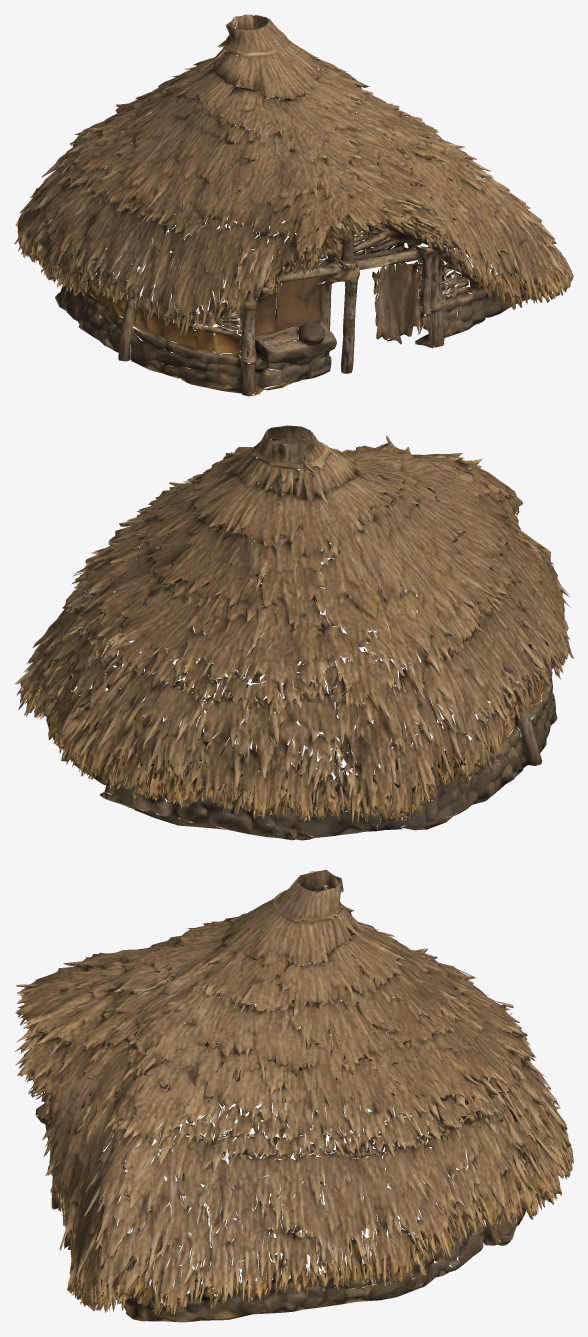
File: study_mid.glb
The picture shows the model from 3 angles, top to bottom: view 1: azimuth 30°, elevation 25°; view 2: azimuth 150°, elevation 25°; view 3: azimuth 270°, elevation 25°; orthographic projection. The views are drawn at different scales.
Parts seen in each view (by area): view 1: model; view 2: model; view 3: model.
Boxes of the visible parts, x1,y1,x2,y2 form: model: [14, 14, 573, 396]; model: [15, 425, 573, 840]; model: [14, 869, 573, 1322].
Size of the model in its own units: 0.9983 by 0.6103 by 0.9753.
1 material, 1 textured.
